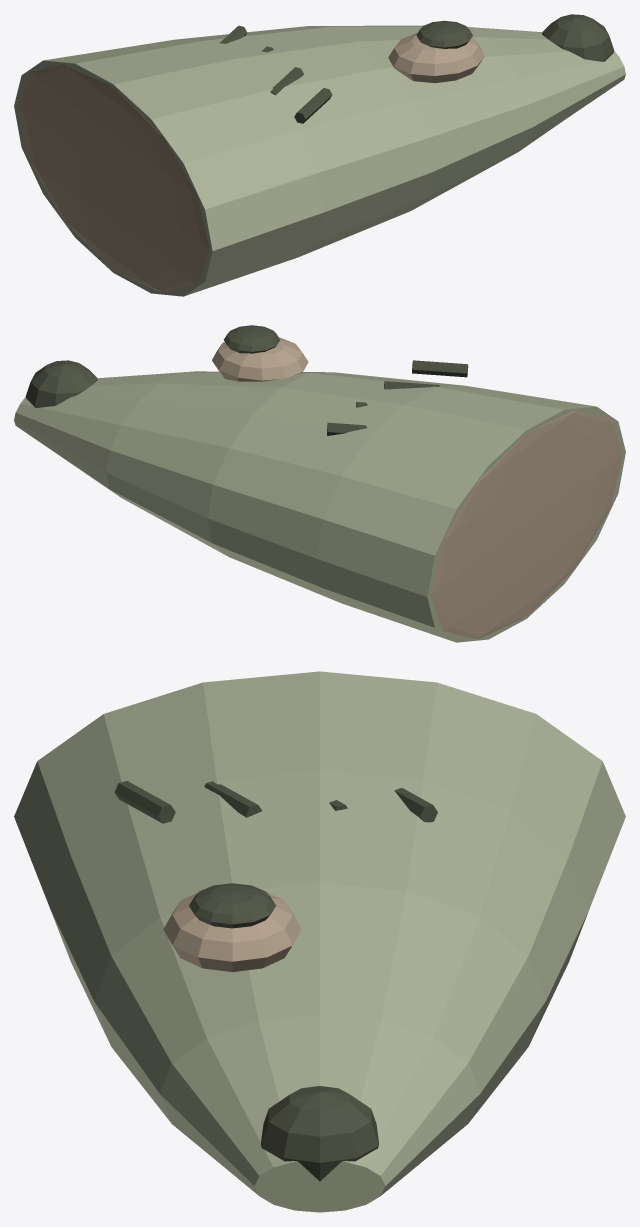
The model's file is FishHead.fbx.
3 renders of one model, top to bottom at view 1: azimuth 30°, elevation 25°; view 2: azimuth 150°, elevation 25°; view 3: azimuth 270°, elevation 25°, orthographic. The views are drawn at different scales.
Parts seen in each view (by area): view 1: Skin__SpoiledFish.002, CutFace__SpoiledFishFlesh.002, EyeRim__SpoiledFishFlesh, Mouth__SpoiledFishDark, Eye__SpoiledFishDark, Gills__SpoiledFishDark; view 2: Skin__SpoiledFish.002, CutFace__SpoiledFishFlesh.002, EyeRim__SpoiledFishFlesh, Mouth__SpoiledFishDark, Gills__SpoiledFishDark, Eye__SpoiledFishDark; view 3: Skin__SpoiledFish.002, Mouth__SpoiledFishDark, EyeRim__SpoiledFishFlesh, Eye__SpoiledFishDark, Gills__SpoiledFishDark.
Boxes of the visible parts, x1,y1,x2,y2 form: Skin__SpoiledFish.002: (14,25,625,296); CutFace__SpoiledFishFlesh.002: (17,64,209,292); EyeRim__SpoiledFishFlesh: (388,32,484,83); Mouth__SpoiledFishDark: (542,14,614,61); Eye__SpoiledFishDark: (416,20,472,48); Gills__SpoiledFishDark: (219,25,332,123); Skin__SpoiledFish.002: (14,371,625,642); CutFace__SpoiledFishFlesh.002: (430,410,622,639); EyeRim__SpoiledFishFlesh: (212,337,308,381); Mouth__SpoiledFishDark: (25,360,97,407); Gills__SpoiledFishDark: (327,360,468,435); Eye__SpoiledFishDark: (224,325,279,353); Skin__SpoiledFish.002: (14,671,625,1212); Mouth__SpoiledFishDark: (261,1086,378,1181); EyeRim__SpoiledFishFlesh: (163,892,301,972); Eye__SpoiledFishDark: (189,883,275,928); Gills__SpoiledFishDark: (114,781,437,823).
Size of what is drawn, in the model's own units: 0.1214 by 0.045 by 0.084.
